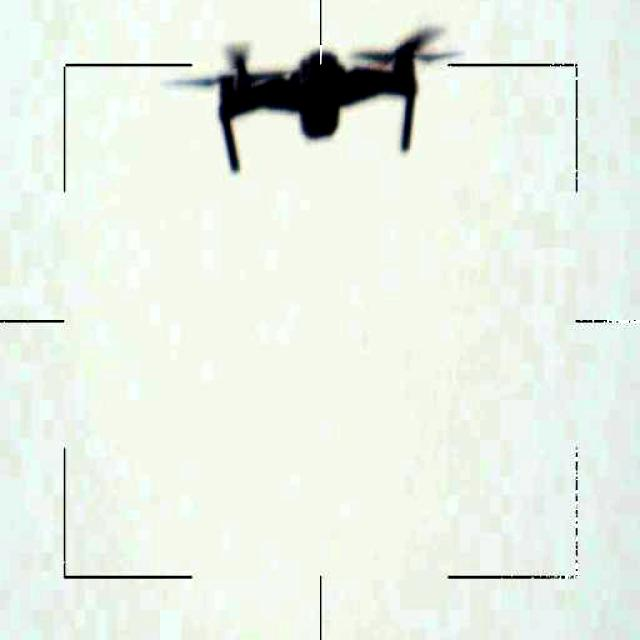bird: (164, 18, 458, 176)
